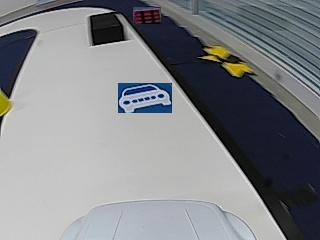block: (89, 13, 126, 46)
